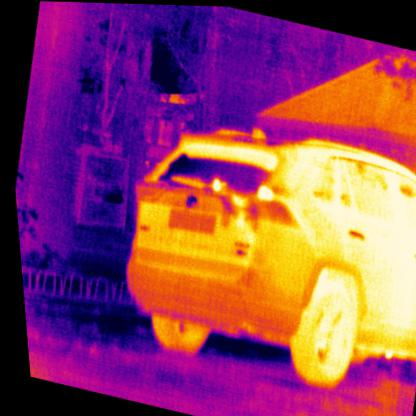drone: (200, 171, 273, 232)
vehicle: (91, 92, 415, 405)
